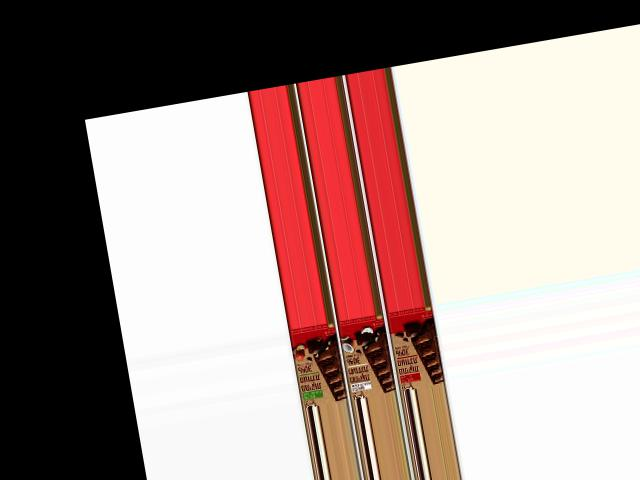chocolate: (286, 321, 346, 408)
